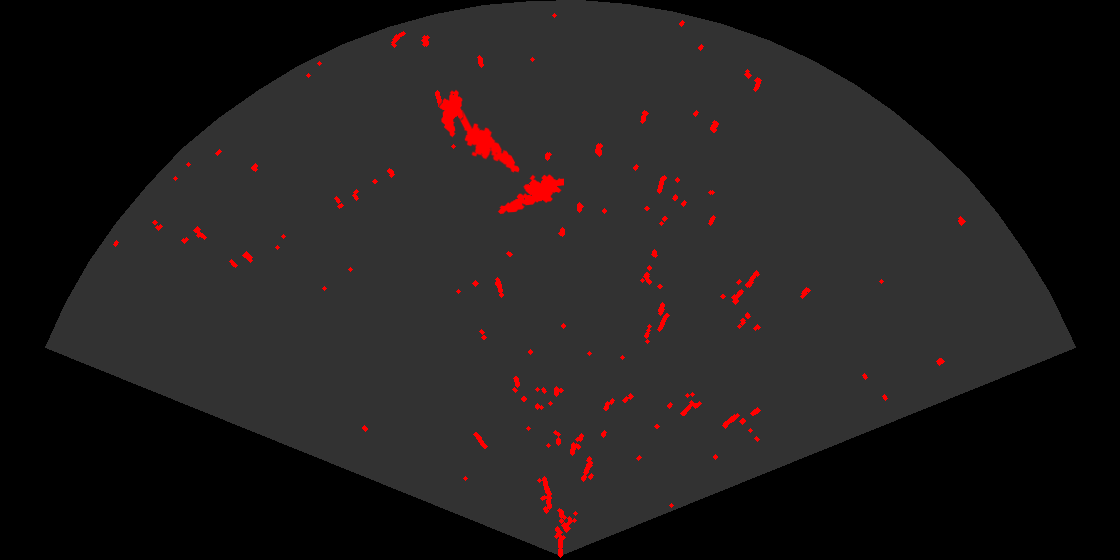AUV: (438, 88, 464, 139)
frogman: (453, 110, 521, 174), (496, 173, 564, 216)
